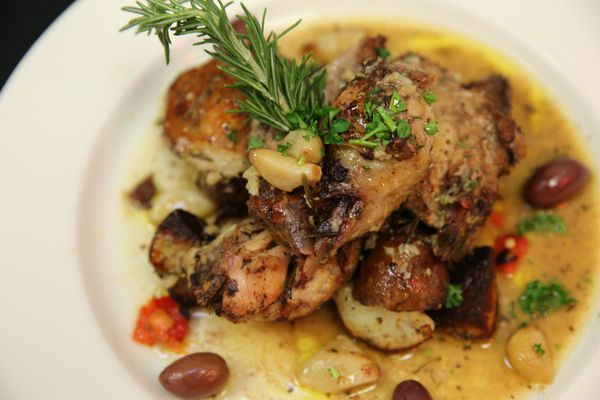curry: (349, 96, 413, 151), (514, 279, 577, 321)
